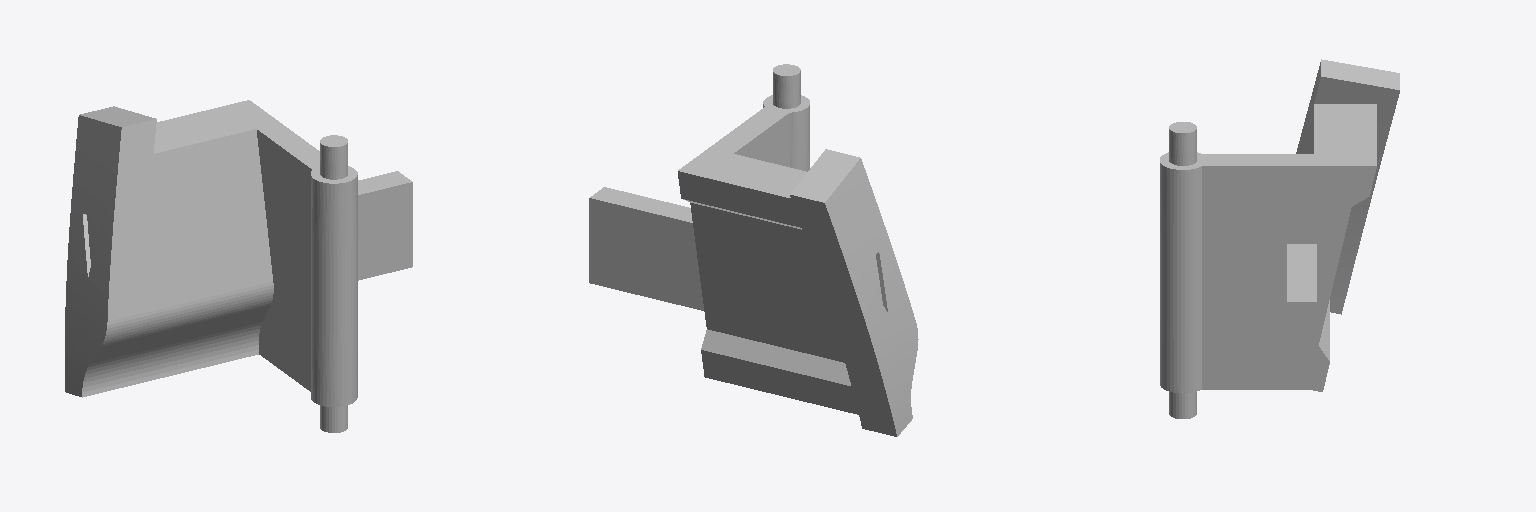
The model's file is mouse_(8).obj.
The picture shows the model from 3 angles: view 1: azimuth 30°, elevation 25°; view 2: azimuth 150°, elevation 25°; view 3: azimuth 270°, elevation 25°; orthographic projection.
Parts seen in each view (by area): view 1: Side_Button_Lower; view 2: Side_Button_Lower; view 3: Side_Button_Lower.
Boxes of the visible parts, x1,y1,x2,y2 form: Side_Button_Lower: [65, 100, 412, 432]; Side_Button_Lower: [589, 64, 918, 436]; Side_Button_Lower: [1160, 59, 1399, 418].
Bounding box in the file's own units: 1.96 × 1.68 × 1.28.